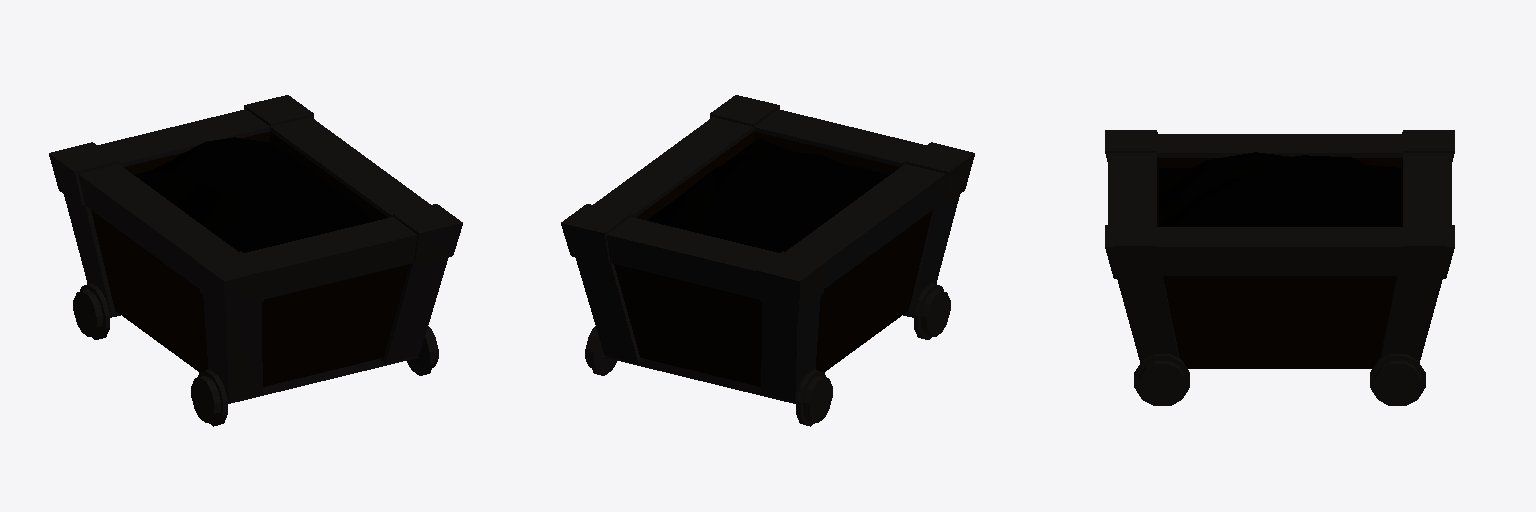
Rendered from wild_west_2024_minecart.obj.
The picture shows the model from 3 angles: view 1: azimuth 30°, elevation 25°; view 2: azimuth 150°, elevation 25°; view 3: azimuth 270°, elevation 25°; orthographic projection.
Parts seen in each view (by area): view 1: 0, 1, 2; view 2: 0, 1, 2; view 3: 0, 1, 2.
Boxes of the visible parts, x1,y1,x2,y2 form: 0: [49, 95, 462, 426]; 1: [91, 131, 409, 386]; 2: [134, 137, 376, 252]; 0: [561, 95, 974, 426]; 1: [614, 131, 932, 386]; 2: [647, 138, 889, 252]; 0: [1105, 130, 1454, 405]; 1: [1157, 158, 1402, 368]; 2: [1159, 152, 1400, 226].
Size of the model in its own units: 0.5492 by 0.4331 by 0.696.